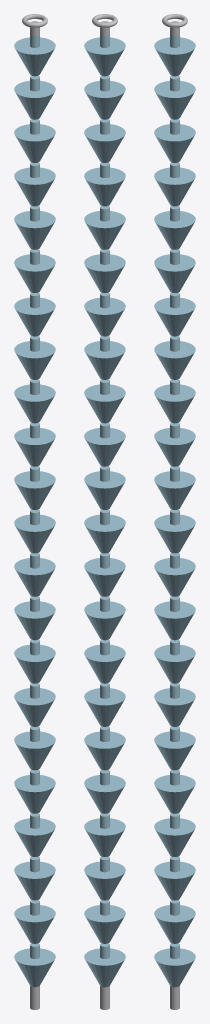
The model's file is Cadena_2612mm.fbx.
3 views of the same model, side by side, from view 1: azimuth 90°, elevation 25°; view 2: azimuth 150°, elevation 25°; view 3: azimuth 270°, elevation 25° (orthographic).
Visible parts, largest first — view 1: Cadena_2612mm; view 2: Cadena_2612mm; view 3: Cadena_2612mm.
Part boxes in pixels (<box>): Cadena_2612mm: <box>14,14,55,1009</box>; Cadena_2612mm: <box>84,14,125,1009</box>; Cadena_2612mm: <box>154,14,195,1009</box>.
Bounding box in the file's own units: 10 × 261 × 10.
